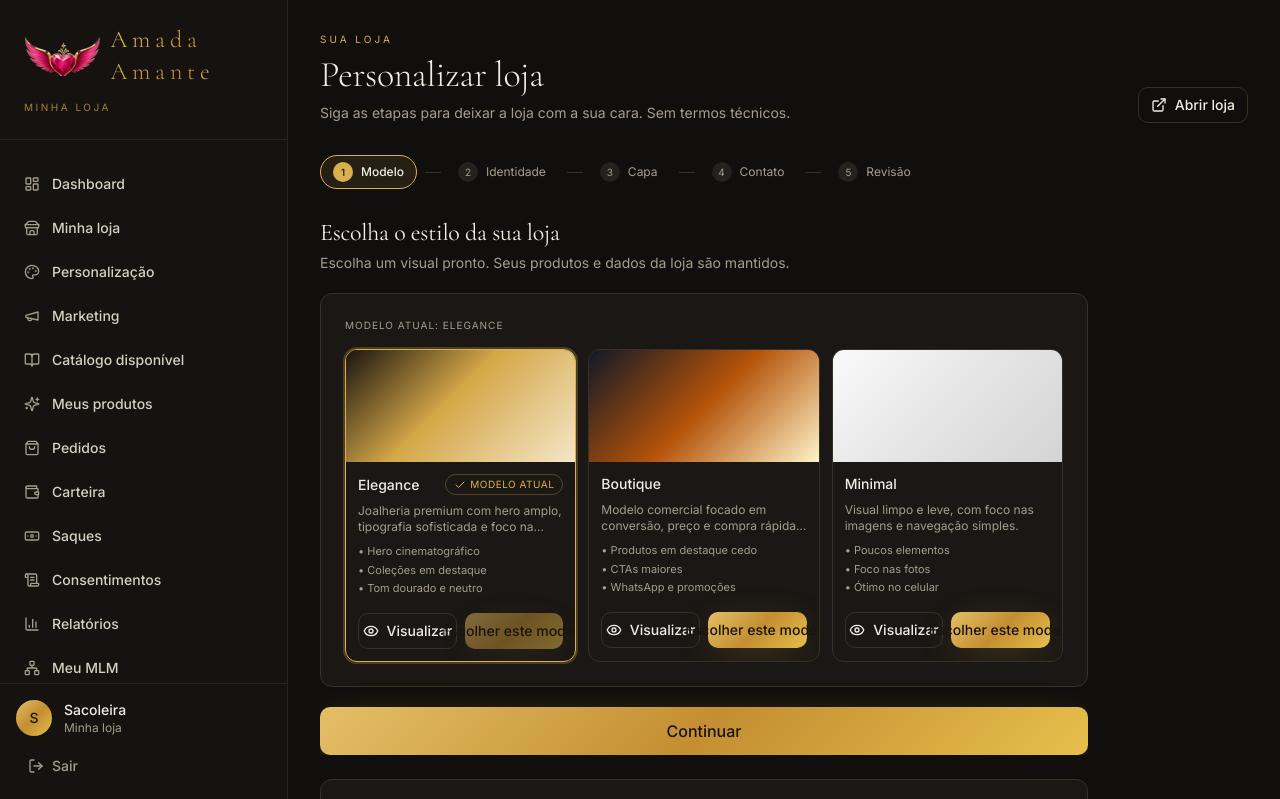
Test: customization wizard › navega entre etapas com Continuar e Voltar
Expected: the element with test id "customization-step-model" is shown, top-left (320, 217), bottom-right (1088, 754)
Click the button with test id "customization-continue".
click(704, 730)  # box top-left (320, 706), bottom-right (1088, 754)
(page scrolled)
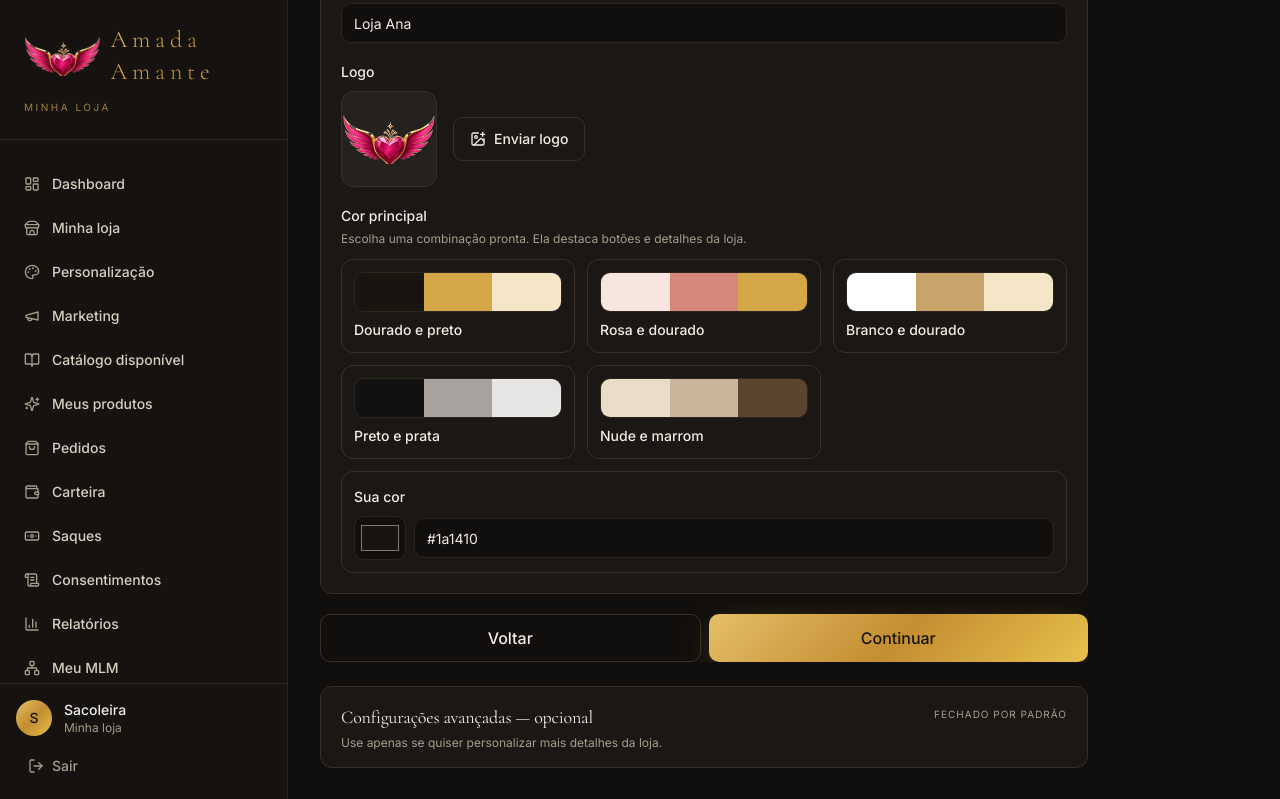
Click the button "Voltar".
click(510, 638)  # box top-left (320, 614), bottom-right (700, 662)
(page scrolled)
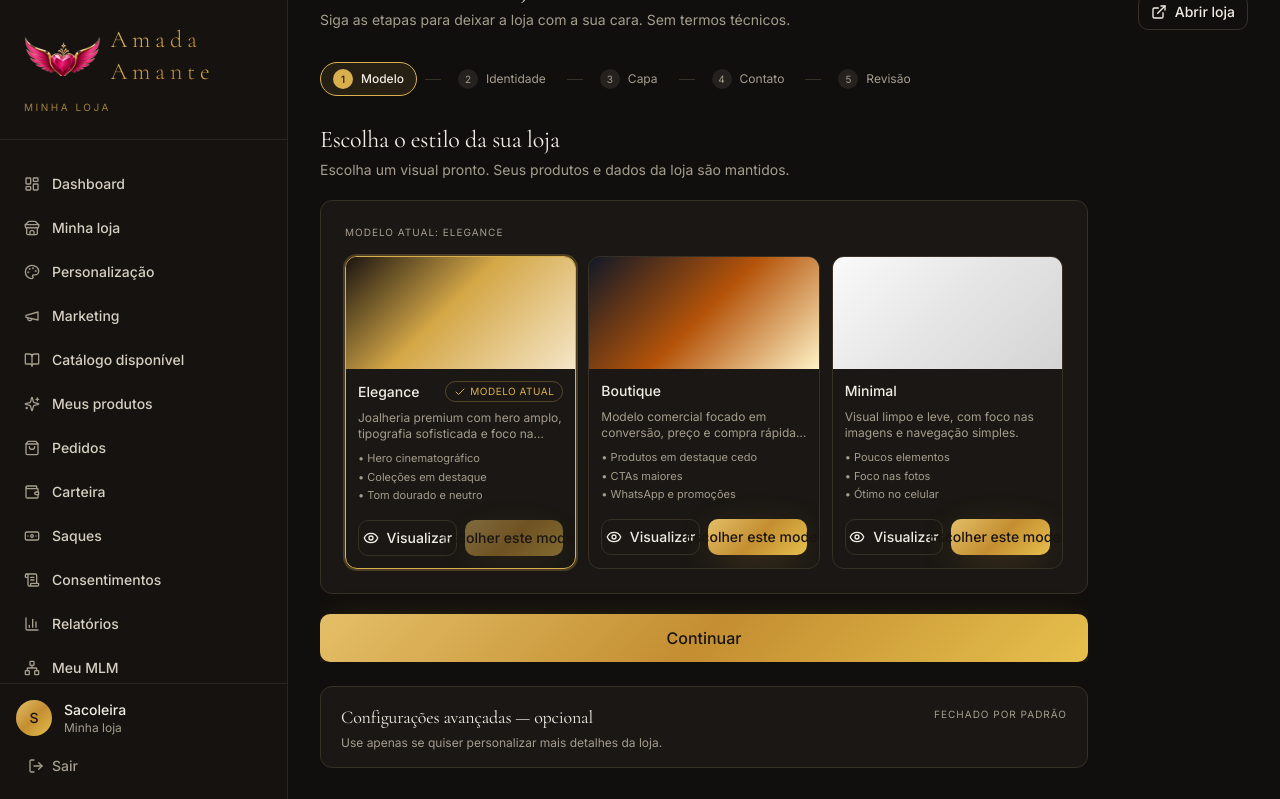
Expected: the element with test id "customization-step-model" is shown, top-left (320, 124), bottom-right (1088, 662)
